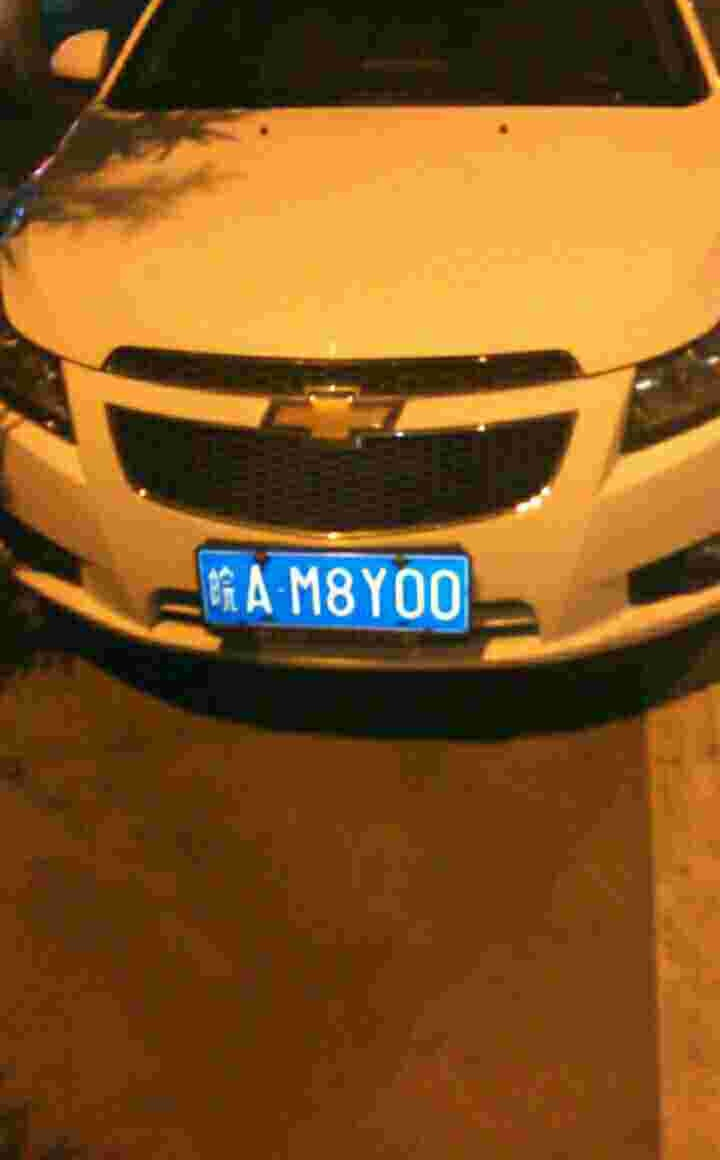license_plate: (180, 553, 467, 636)
